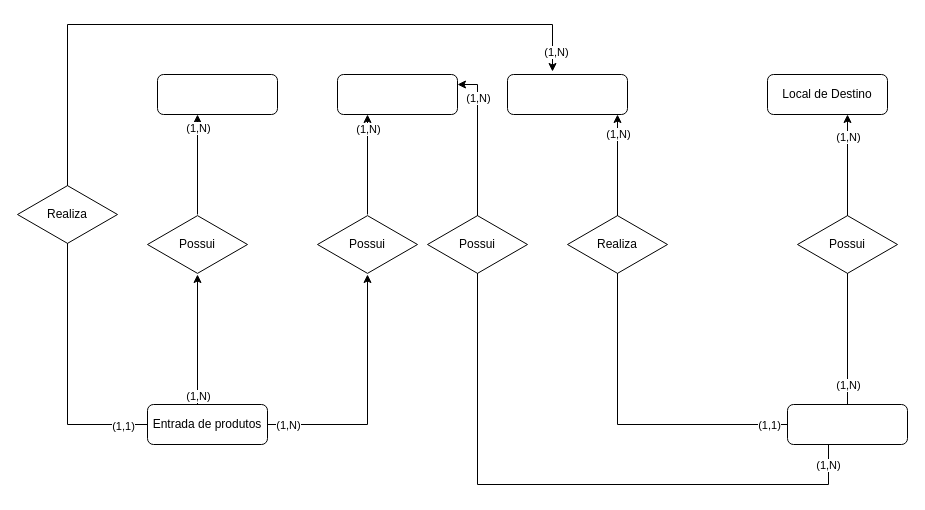
Some shapes in this 925 by 510 pixel diagram are drawn without their labels. Each missing label, with the centre of its shape:
Fornecedores: [217,94]
Produtos: [397,94]
Saída de produtos: [847,424]
Usuário: [567,94]
